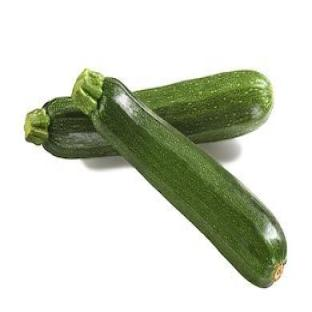Zucchini: (72, 70, 286, 286), (134, 71, 272, 142)
